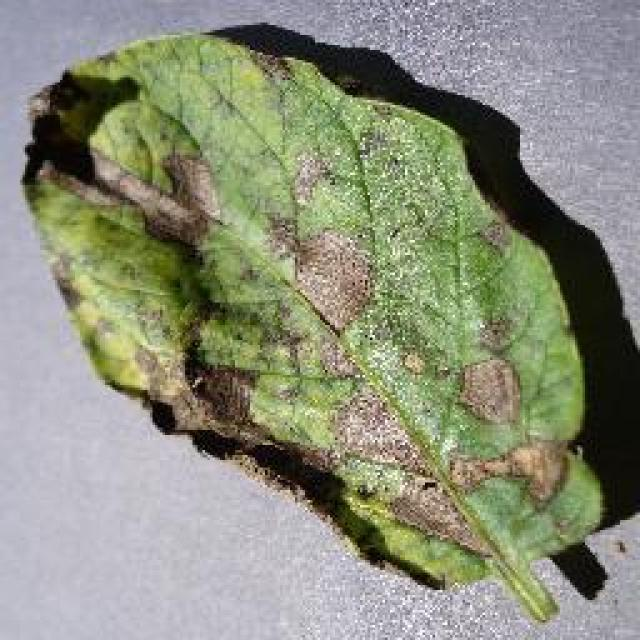early_blight: (18, 25, 610, 625)
